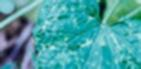Tomato leaf mosaic virus: (34, 0, 141, 69)
